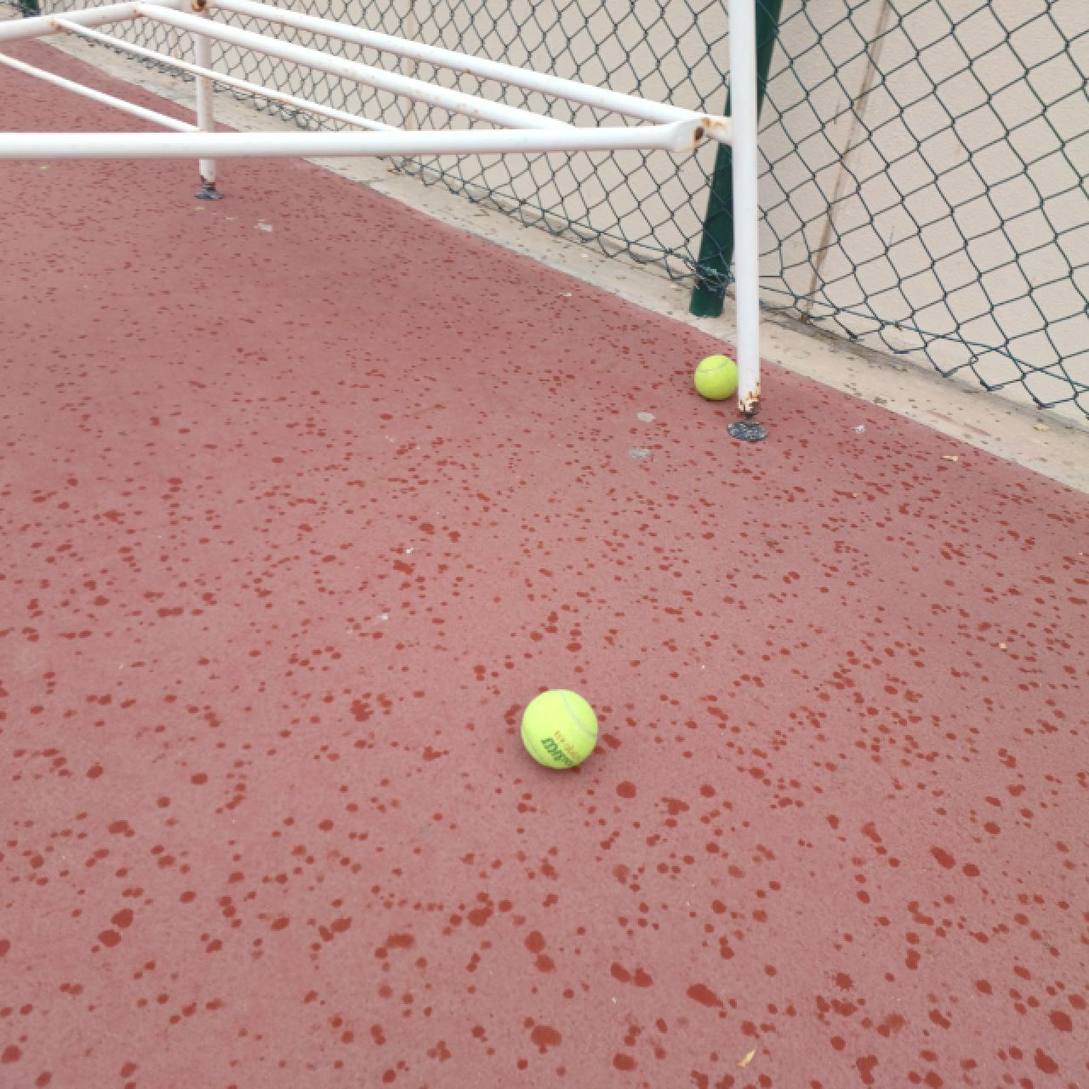tennis-ball: (520, 687, 599, 770), (693, 353, 740, 402)
